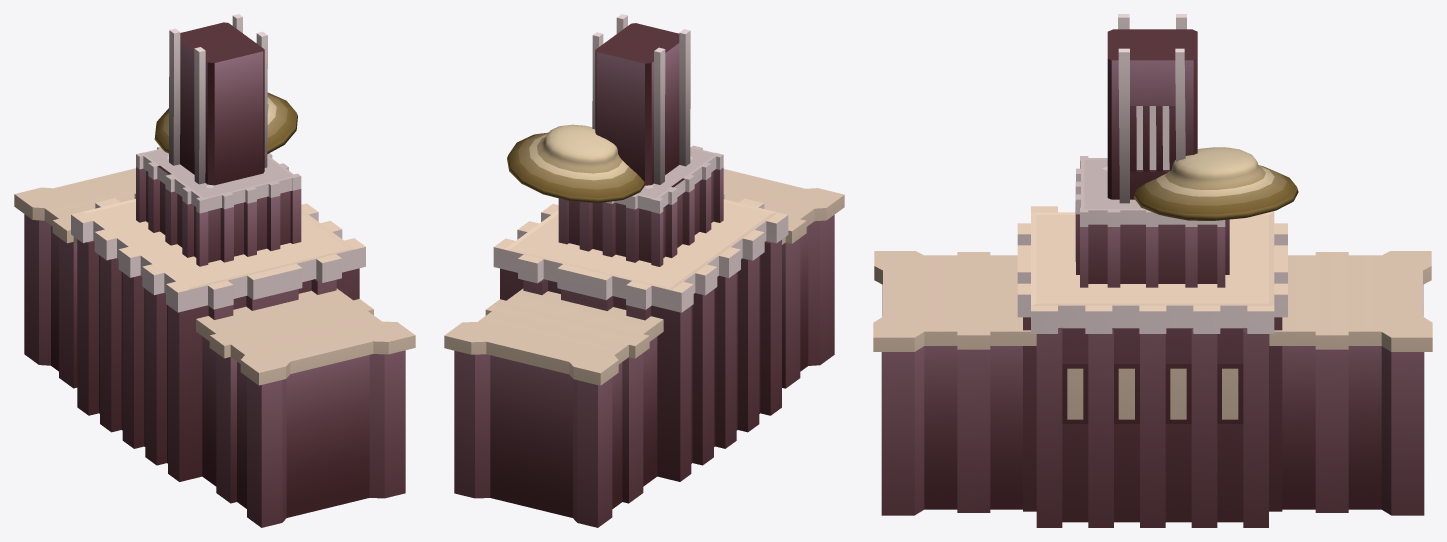
Rendered from ufobuilding.fbx.
The picture shows the model from 3 angles, left to right: view 1: azimuth 30°, elevation 25°; view 2: azimuth 150°, elevation 25°; view 3: azimuth 270°, elevation 25°; orthographic projection. The views are drawn at different scales.
Visible parts, largest first — view 1: UfobuildingUP, ufobuildingUnder, UFO; view 2: UfobuildingUP, ufobuildingUnder, UFO; view 3: UfobuildingUP, ufobuildingUnder, UFO.
Boxes of the visible parts, x1=… form: UfobuildingUP: x1=71, y1=14, x2=365, y2=481; ufobuildingUnder: x1=14, y1=168, x2=415, y2=527; UFO: x1=154, y1=92, x2=297, y2=153; UfobuildingUP: x1=493, y1=14, x2=788, y2=481; ufobuildingUnder: x1=444, y1=169, x2=844, y2=527; UFO: x1=507, y1=124, x2=644, y2=203; UfobuildingUP: x1=1017, y1=14, x2=1287, y2=527; ufobuildingUnder: x1=873, y1=251, x2=1432, y2=515; UFO: x1=1133, y1=147, x2=1298, y2=220.
Size of the model in its own units: 1501 by 2917 by 3327.
2 materials, 2 textured.
